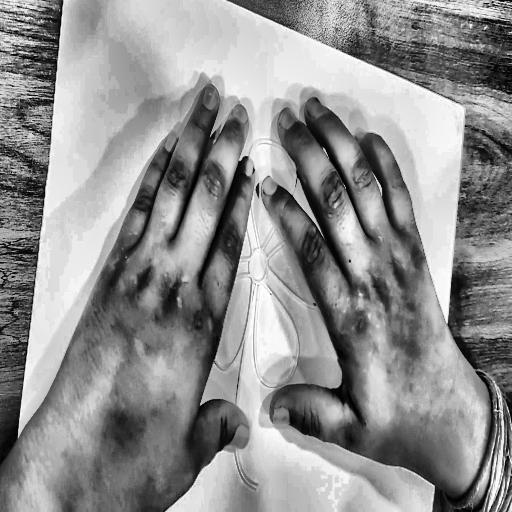flower: (142, 93, 359, 512)
top_right: (459, 99, 470, 117)
